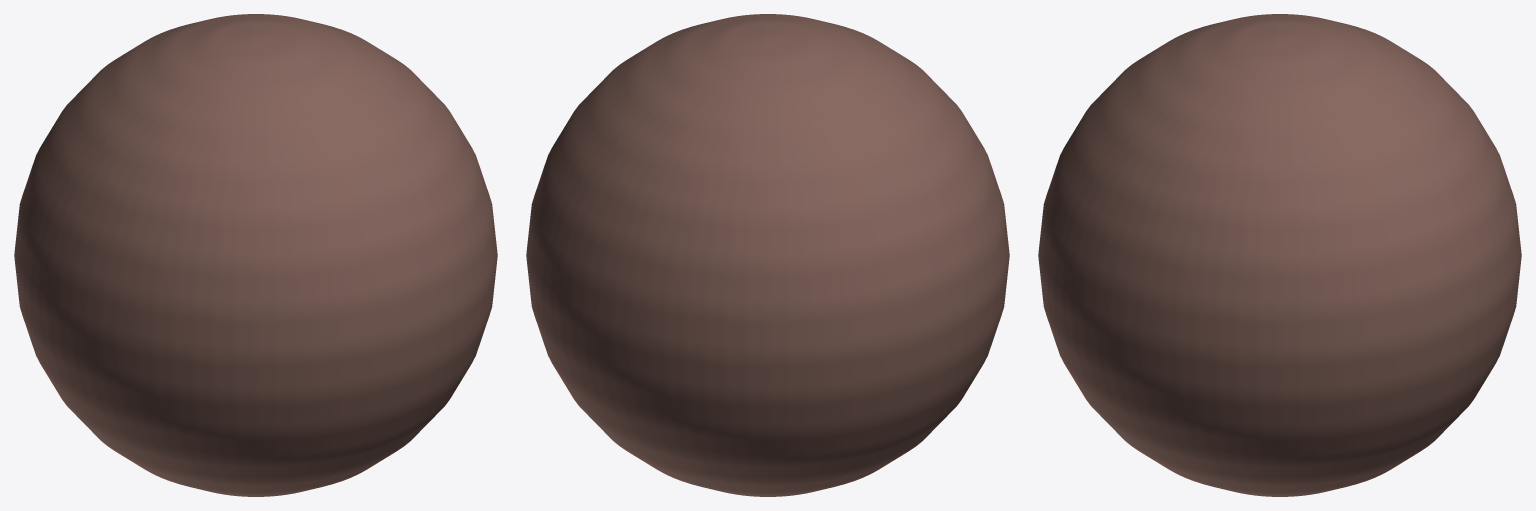
File: exoplanet_demo.glb
The picture shows the model from 3 angles, left to right: view 1: azimuth 30°, elevation 25°; view 2: azimuth 150°, elevation 25°; view 3: azimuth 270°, elevation 25°; orthographic projection.
Parts seen in each view (by area): view 1: ExoplanetDemo; view 2: ExoplanetDemo; view 3: ExoplanetDemo.
Boxes of the visible parts, box(x1,y1,x2,y2) form: ExoplanetDemo: box(14, 14, 497, 496); ExoplanetDemo: box(526, 14, 1009, 496); ExoplanetDemo: box(1038, 14, 1521, 496).
Size of the model in its own units: 2 by 2 by 2.
